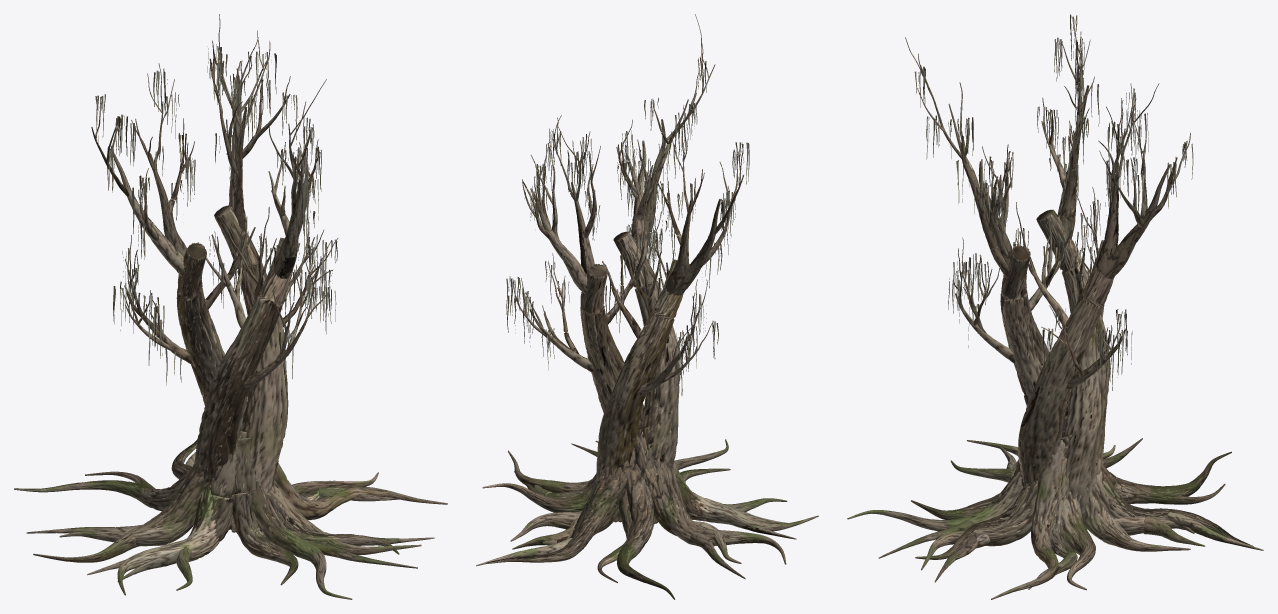
Rendered from dead-oak-photo-v02.glb.
The picture shows the model from 3 angles, left to right: view 1: azimuth 30°, elevation 25°; view 2: azimuth 150°, elevation 25°; view 3: azimuth 270°, elevation 25°; orthographic projection. The views are drawn at different scales.
Parts seen in each view (by area): view 1: Dead oak | gnarled trunk, roots, branches, moss; view 2: Dead oak | gnarled trunk, roots, branches, moss; view 3: Dead oak | gnarled trunk, roots, branches, moss.
Part boxes in pixels (bbox=[...]): Dead oak | gnarled trunk, roots, branches, moss: bbox=[14, 14, 447, 599]; Dead oak | gnarled trunk, roots, branches, moss: bbox=[476, 14, 818, 599]; Dead oak | gnarled trunk, roots, branches, moss: bbox=[847, 14, 1263, 599].
Bounding box in the file's own units: 6.03 × 8.09 × 6.16.
Materials: 1 (1 with a texture image).
